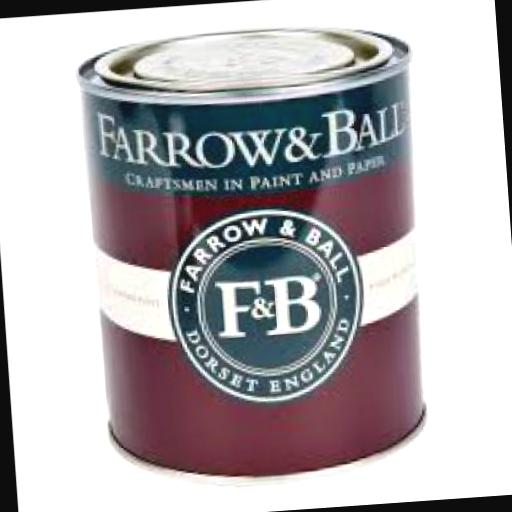metal: (71, 14, 438, 484)
